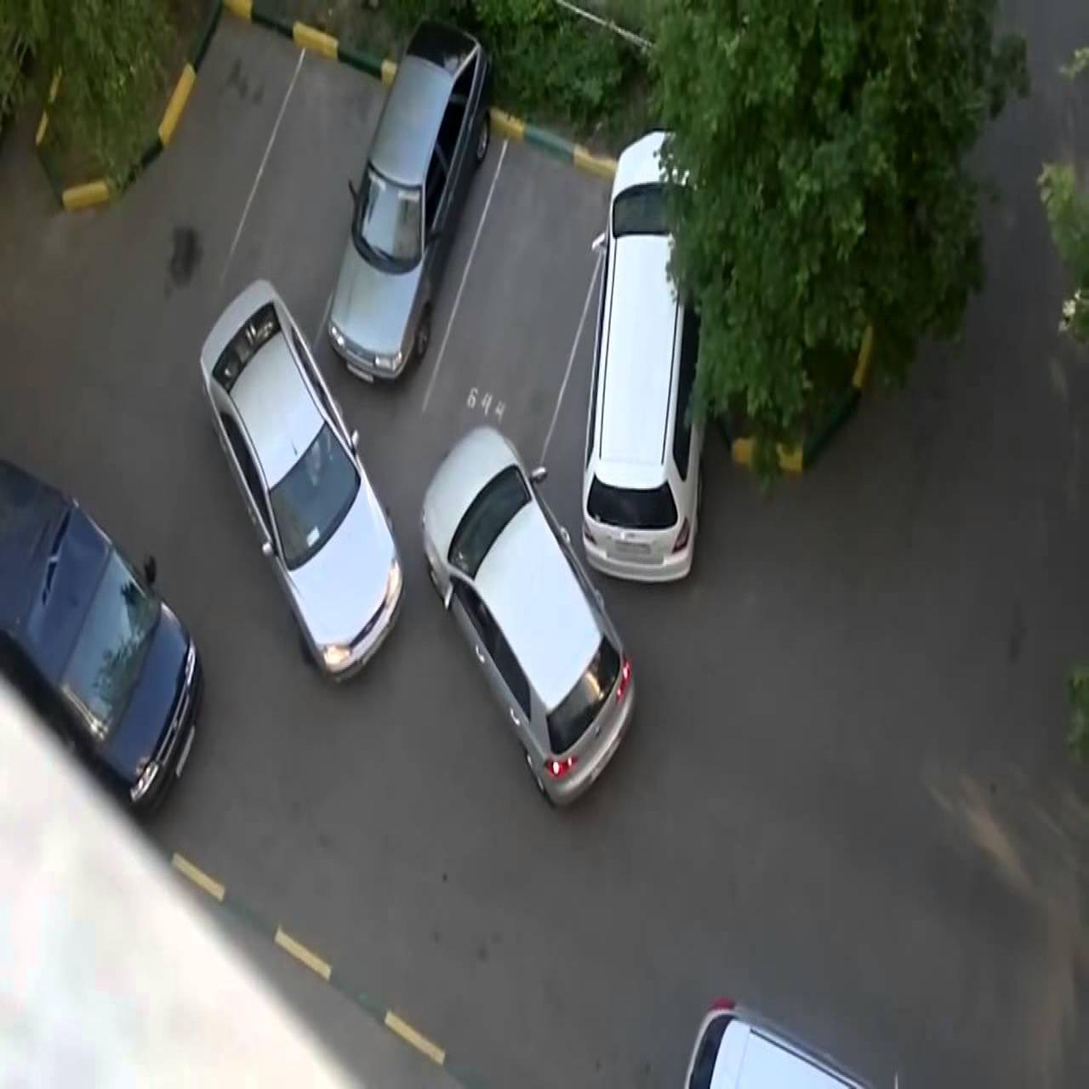cars: (329, 38, 485, 421), (440, 111, 573, 506), (577, 151, 691, 597), (254, 32, 373, 321)
empty: (148, 0, 279, 275)
